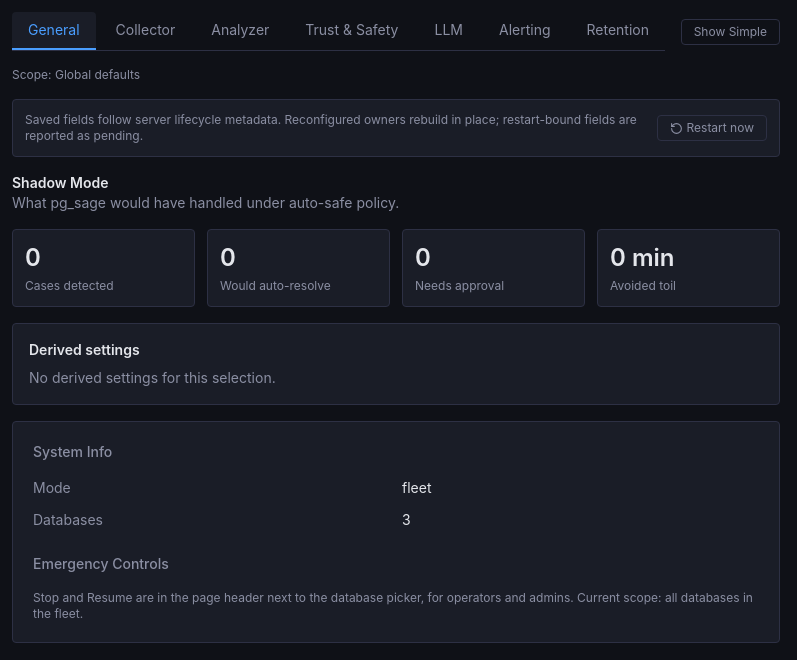
SettingsPage › shows restart-pending fields returned by reset
Click the button with test id "settings-tab-retention": (618, 31) [570, 12, 665, 50]
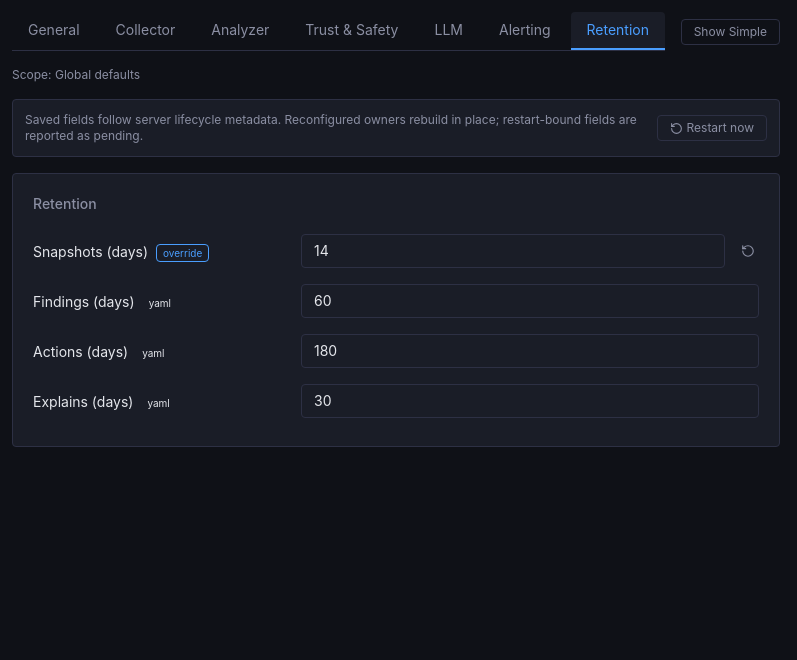
Click the button with test id "reset-retention.snapshots_days": (748, 251) [737, 240, 759, 262]
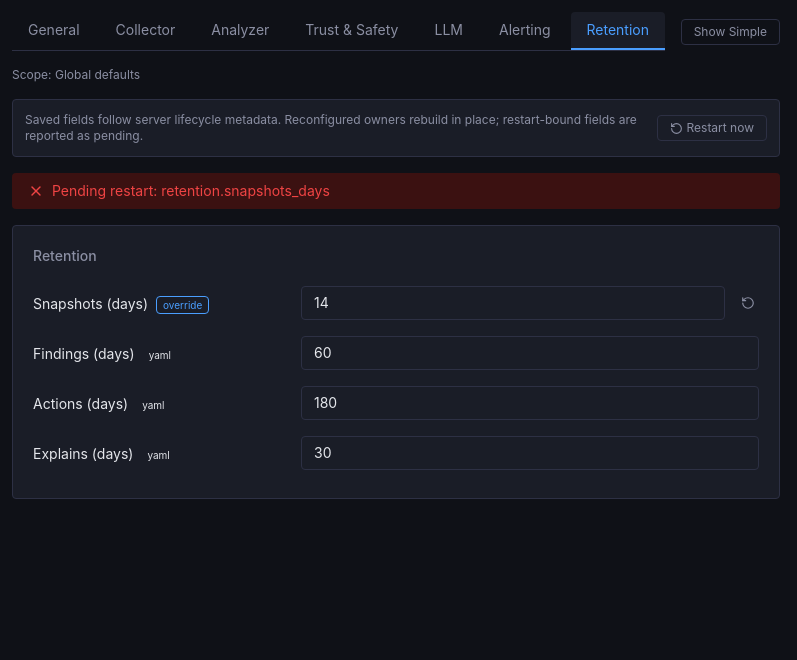
Expected: the text "Pending restart: retention.snapshots_days" is shown, [12, 173, 780, 209]
